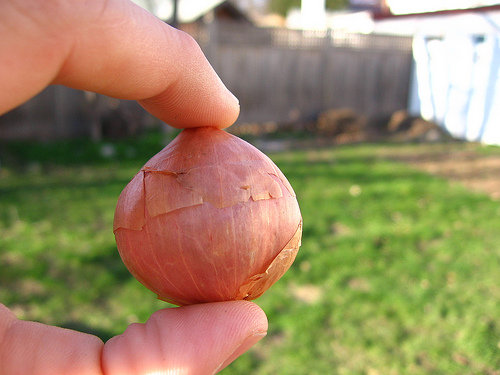onion: (112, 124, 304, 308)
